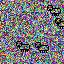sheep: (47, 5, 61, 16), (16, 41, 30, 52), (35, 42, 49, 52), (55, 18, 64, 29)
